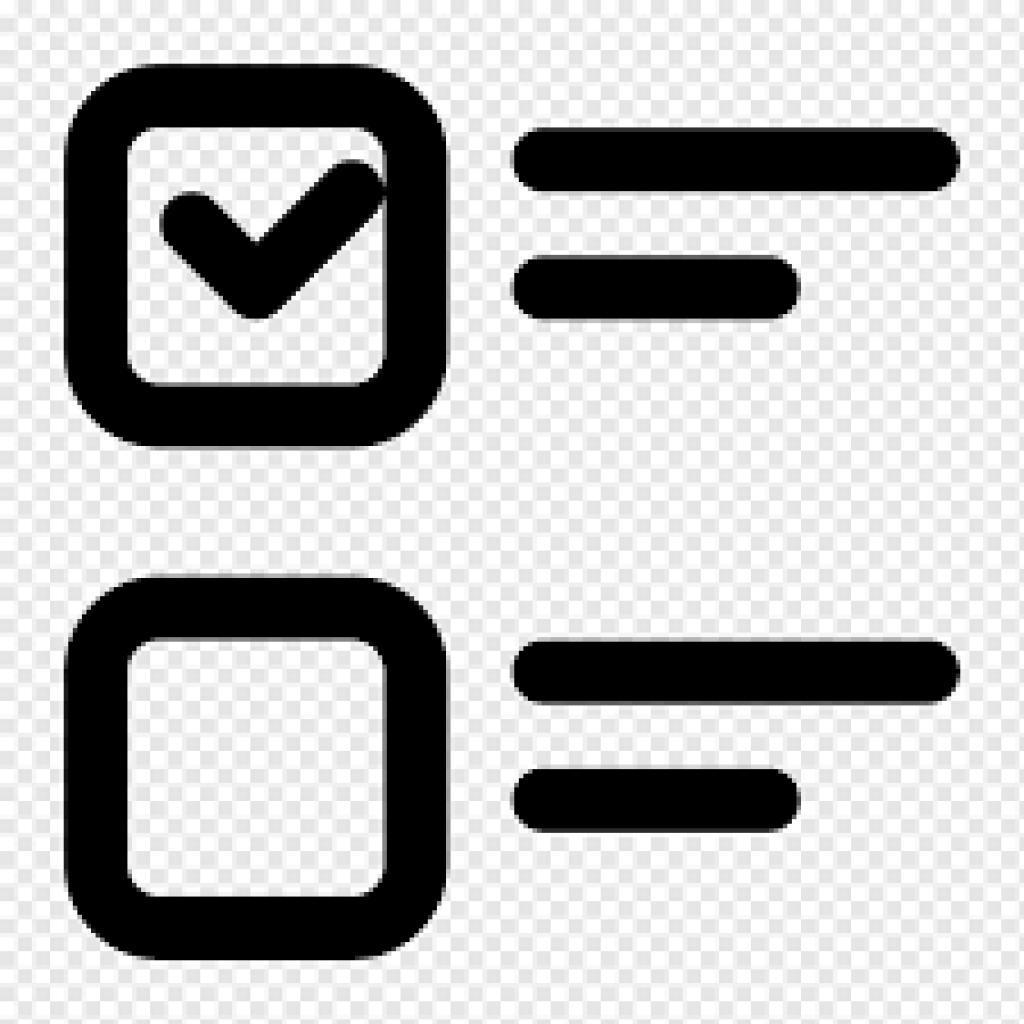checkbox: (62, 576, 451, 959), (65, 66, 451, 447)
